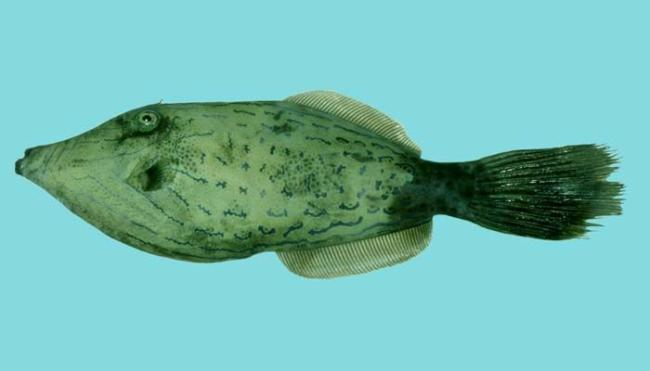fish: (14, 90, 626, 280)
